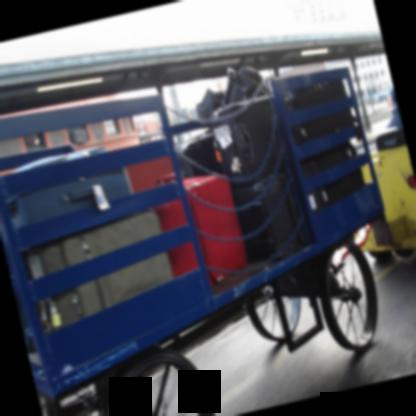backpack: (222, 68, 269, 106)
handbag: (196, 91, 228, 117)
suitcase: (23, 209, 175, 335), (154, 175, 251, 287), (12, 167, 134, 227), (210, 96, 291, 186), (290, 78, 357, 143), (312, 143, 366, 208), (186, 126, 243, 184), (302, 162, 330, 213)
